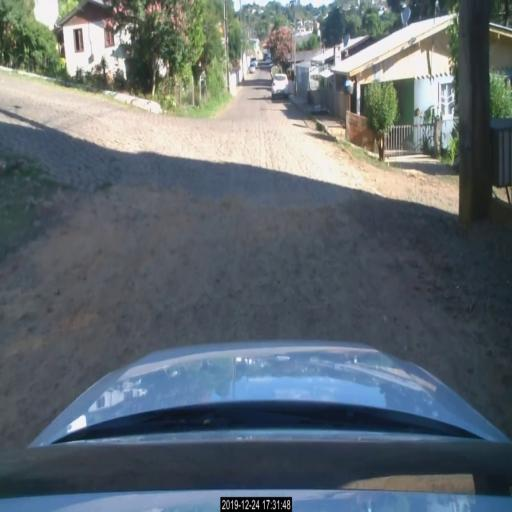Pothole: (2, 254, 136, 337)
